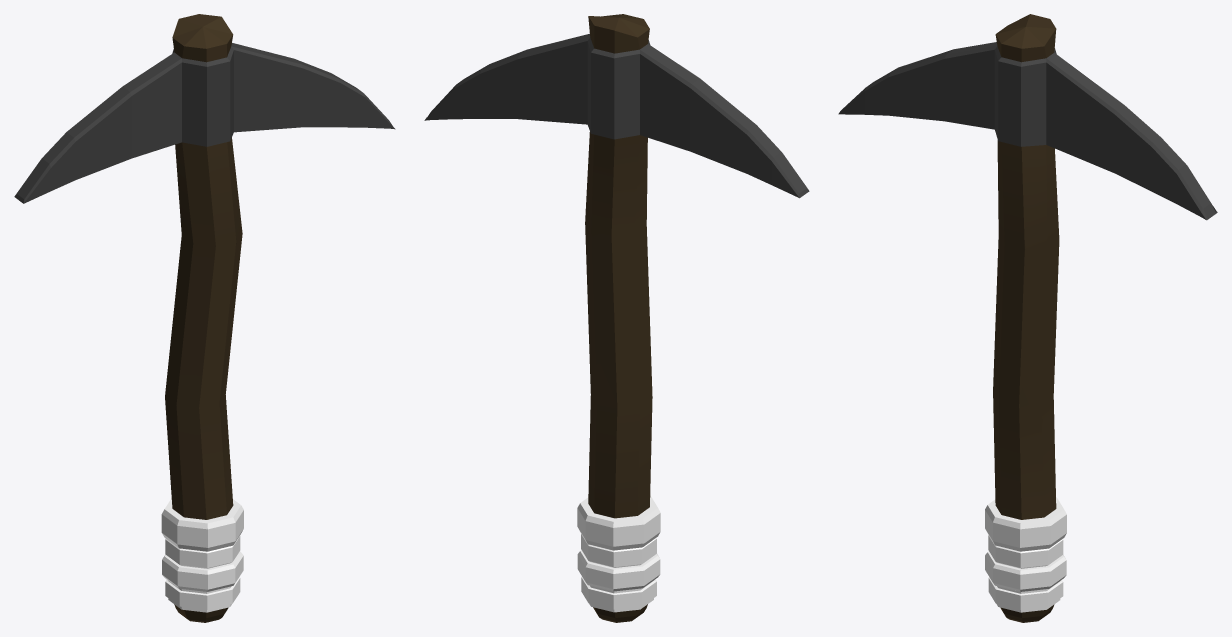
The model's file is pickaxe.fbx.
3 renders of one model, left to right at view 1: azimuth 30°, elevation 25°; view 2: azimuth 150°, elevation 25°; view 3: azimuth 330°, elevation 25°, orthographic.
Parts seen in each view (by area): view 1: Pickaxe; view 2: Pickaxe; view 3: Pickaxe.
Boxes of the visible parts, x1,y1,x2,y2 form: Pickaxe: (14, 14, 395, 622); Pickaxe: (424, 14, 809, 622); Pickaxe: (838, 14, 1217, 622).
Size of the model in its own units: 3.11 by 4.72 by 0.5588.
Materials: 1 (1 with a texture image).
